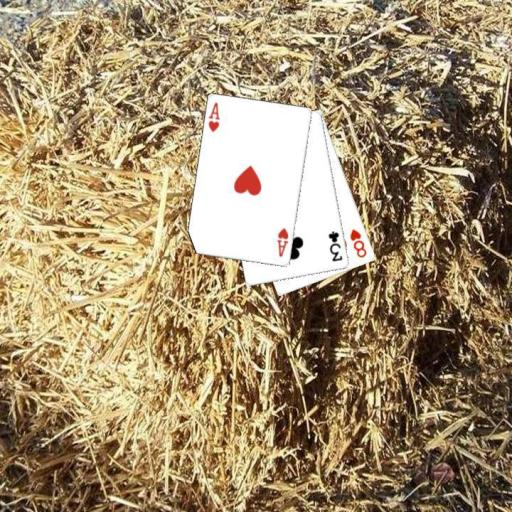3C: (325, 228, 344, 263)
8H: (347, 226, 368, 260)
AH: (205, 100, 222, 134), (274, 225, 290, 259)
